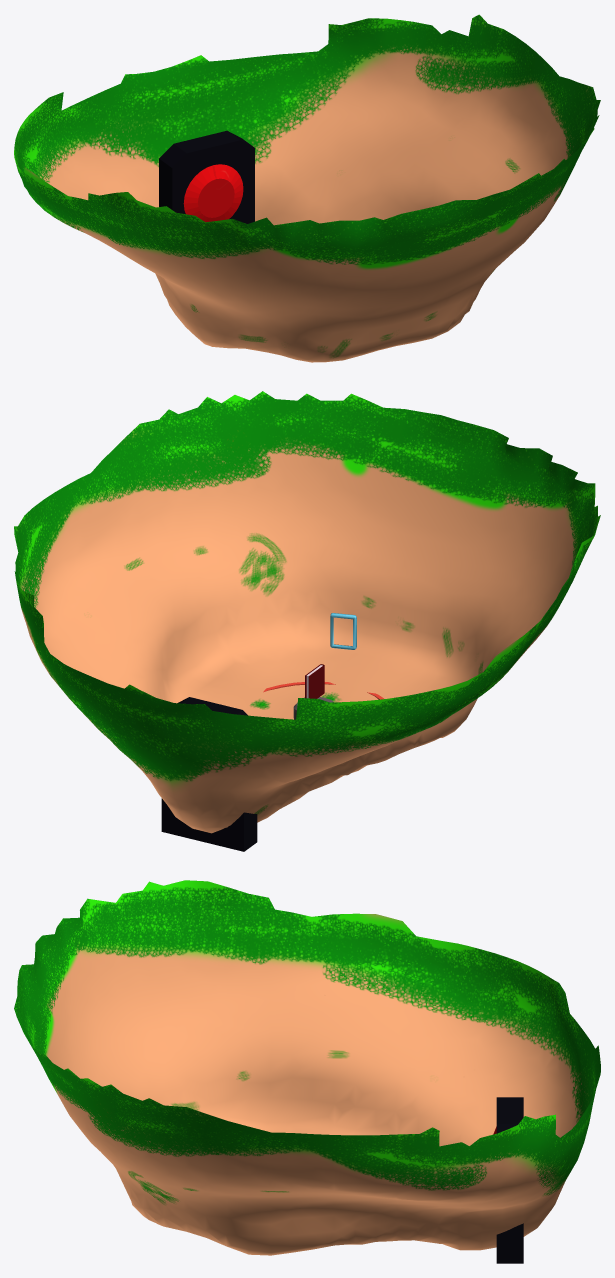
File: the hub.glb
3 views of the same model, one above another, from view 1: azimuth 30°, elevation 25°; view 2: azimuth 150°, elevation 25°; view 3: azimuth 270°, elevation 25° (orthographic). The views are drawn at different scales.
Visible parts, largest first — view 1: geometery, master gate; view 2: geometery, master gate; view 3: geometery, master gate.
Part boxes in pixels (x1=…): geometery: x1=14, y1=14, x2=600, y2=362; master gate: x1=159, y1=130, x2=254, y2=223; geometery: x1=14, y1=391, x2=600, y2=833; master gate: x1=161, y1=697, x2=257, y2=851; geometery: x1=14, y1=880, x2=600, y2=1255; master gate: x1=493, y1=1097, x2=523, y2=1263.
Bounding box in the file's own units: 50.08 × 25.04 × 51.59.
1 material, 1 textured.
